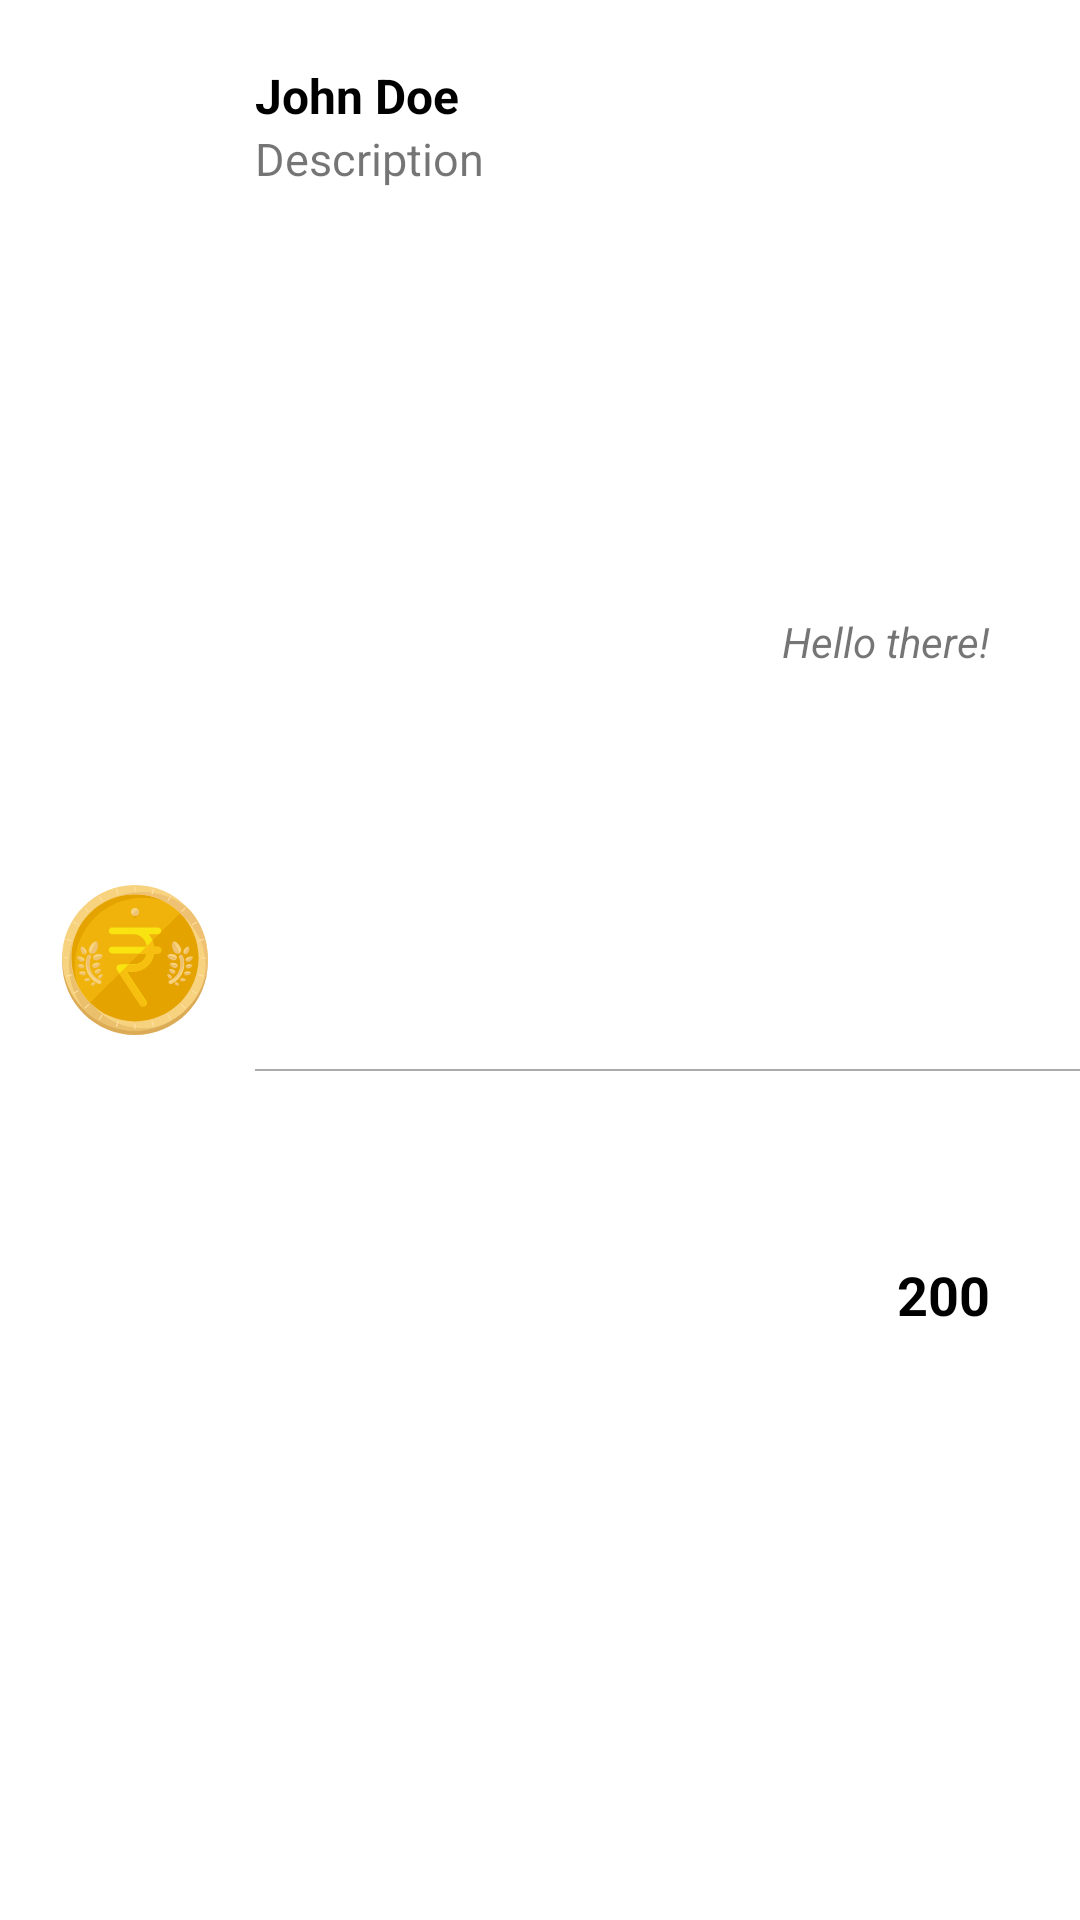

Where to tap for icons on this 1080*1920 app screen, as [x,y]:
rupee: [135,960]
